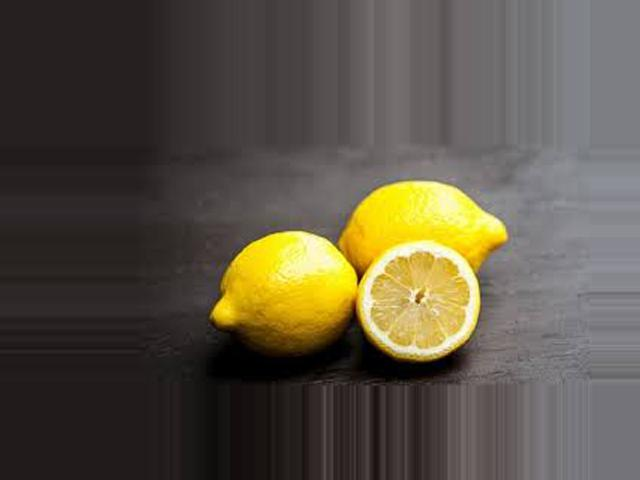lemon: (335, 166, 515, 284)
